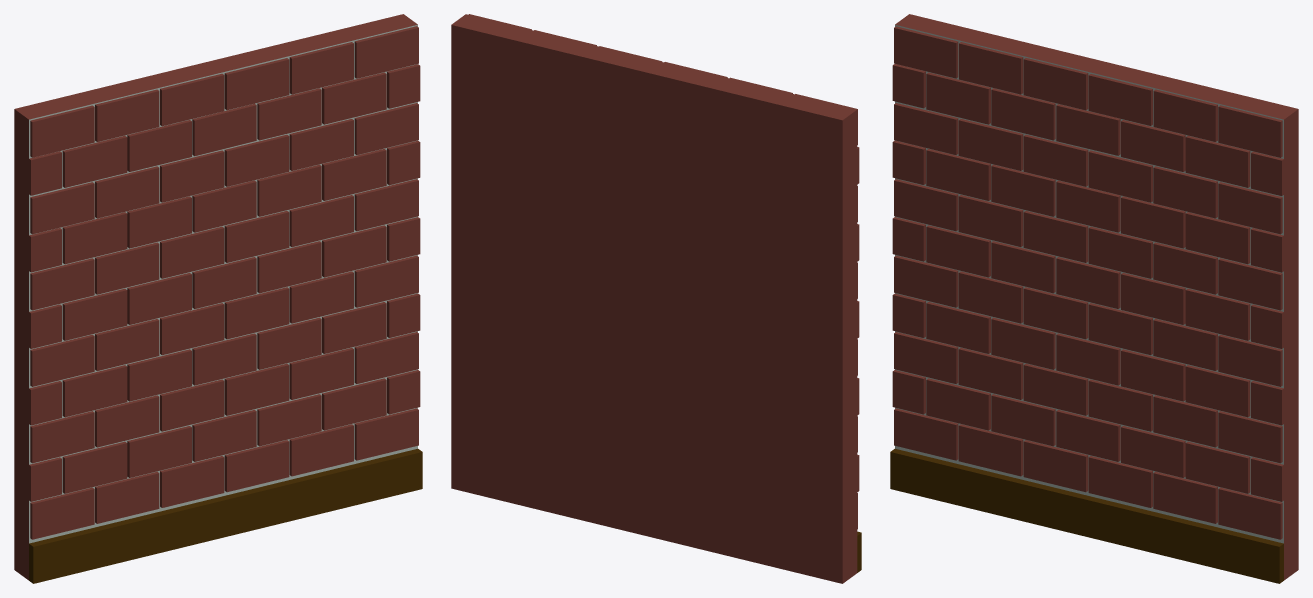
The model's file is R_Wall_Medium.fbx.
3 renders of one model, left to right at view 1: azimuth 30°, elevation 25°; view 2: azimuth 150°, elevation 25°; view 3: azimuth 330°, elevation 25°, orthographic.
Parts seen in each view (by area): view 1: R_Wall_Medium; view 2: R_Wall_Medium; view 3: R_Wall_Medium.
Boxes of the visible parts, bbox=[...] form: R_Wall_Medium: bbox=[14, 14, 422, 583]; R_Wall_Medium: bbox=[451, 14, 861, 583]; R_Wall_Medium: bbox=[890, 14, 1298, 583].
Size of the model in its own units: 2000 by 170 by 2264.
